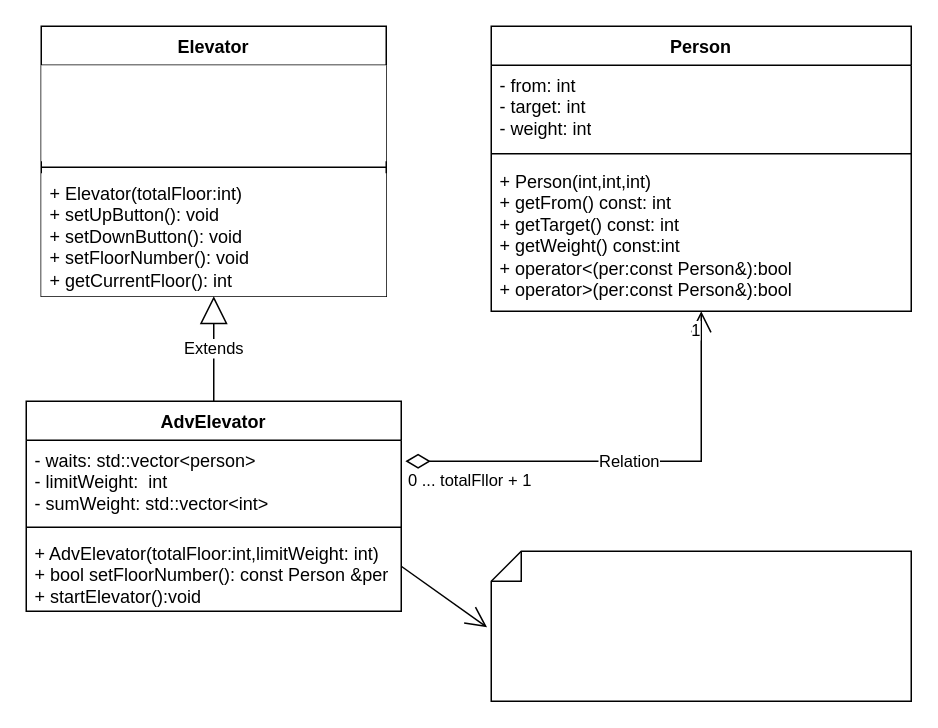
Some shapes in this 938 by 728 pixel diagram are drawn without their labels. The centre of each missing label's shape, as x and y in pixels:
- totalFloor : int - currentFloor: int - isUp: bool - isDown: bool: point (213, 112)
此类中将基类的setFloorNumber() : void的访问权限 设置为了private: point (700, 625)
